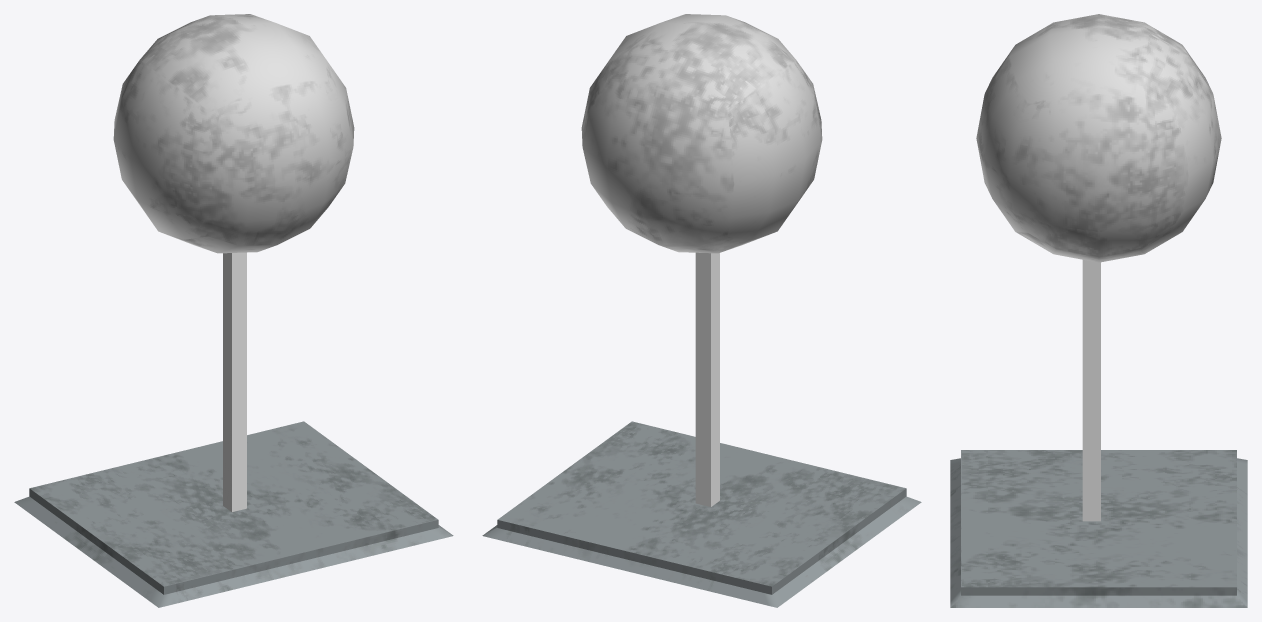
Rendered from estatua02.glb.
3 renders of one model, left to right at view 1: azimuth 30°, elevation 25°; view 2: azimuth 150°, elevation 25°; view 3: azimuth 270°, elevation 25°, orthographic. The views are drawn at different scales.
Parts seen in each view (by area): view 1: lua_low, base_low, suporte_low; view 2: lua_low, base_low, suporte_low; view 3: lua_low, base_low, suporte_low.
Boxes of the visible parts, x1=… form: lua_low: x1=113, y1=14, x2=354, y2=253; base_low: x1=14, y1=421, x2=453, y2=607; suporte_low: x1=223, y1=252, x2=246, y2=511; lua_low: x1=581, y1=14, x2=822, y2=253; base_low: x1=482, y1=421, x2=921, y2=607; suporte_low: x1=695, y1=252, x2=719, y2=506; lua_low: x1=976, y1=14, x2=1221, y2=262; base_low: x1=950, y1=450, x2=1247, y2=607; suporte_low: x1=1082, y1=260, x2=1100, y2=521.
Size of the model in its own units: 0.3029 by 0.4838 by 0.257.
Materials: 3 (2 with a texture image).
